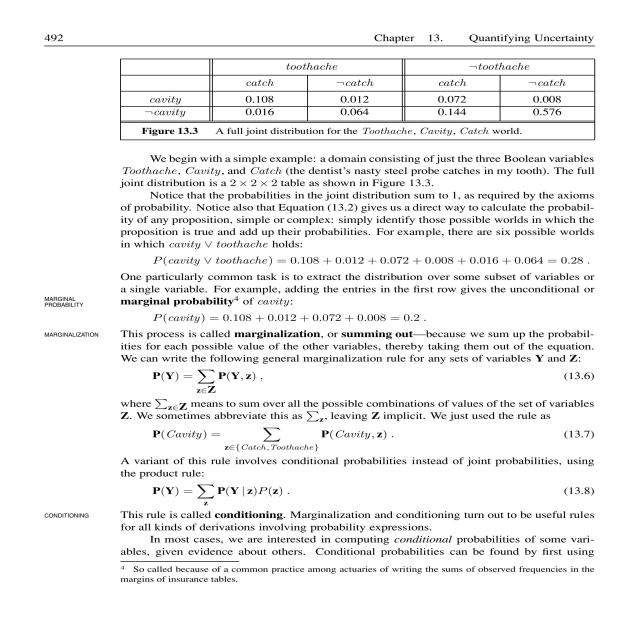diagram: (65, 54, 640, 153)
